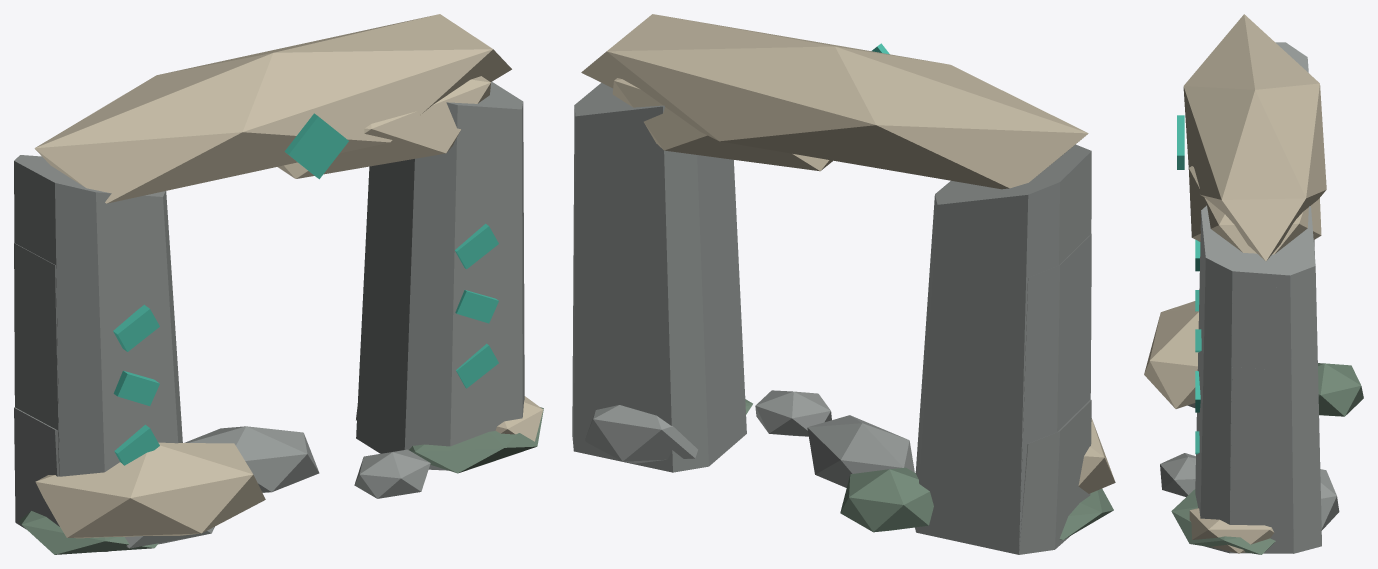
File: standing_stone_gate.glb
3 renders of one model, left to right at view 1: azimuth 30°, elevation 25°; view 2: azimuth 150°, elevation 25°; view 3: azimuth 270°, elevation 25°, orthographic. The views are drawn at different scales.
Parts seen in each view (by area): view 1: Stage_Intact, Stage_Damaged, Stage_Rubble, Stage_Critical; view 2: Stage_Intact, Stage_Damaged, Stage_Critical, Stage_Rubble; view 3: Stage_Intact, Stage_Damaged, Stage_Critical, Stage_Rubble.
Boxes of the visible parts, x1,y1,x2,y2 form: Stage_Intact: [14, 14, 543, 554]; Stage_Damaged: [14, 76, 490, 538]; Stage_Rubble: [125, 396, 543, 548]; Stage_Critical: [14, 407, 430, 547]; Stage_Intact: [572, 14, 1113, 554]; Stage_Damaged: [612, 78, 1115, 553]; Stage_Critical: [586, 390, 1091, 554]; Stage_Rubble: [585, 390, 933, 532]; Stage_Intact: [1171, 14, 1326, 554]; Stage_Damaged: [1144, 166, 1321, 553]; Stage_Critical: [1164, 367, 1337, 553]; Stage_Rubble: [1160, 363, 1363, 553].
Size of what is drawn, in the model's own units: 3.77 by 3.08 by 1.64.
